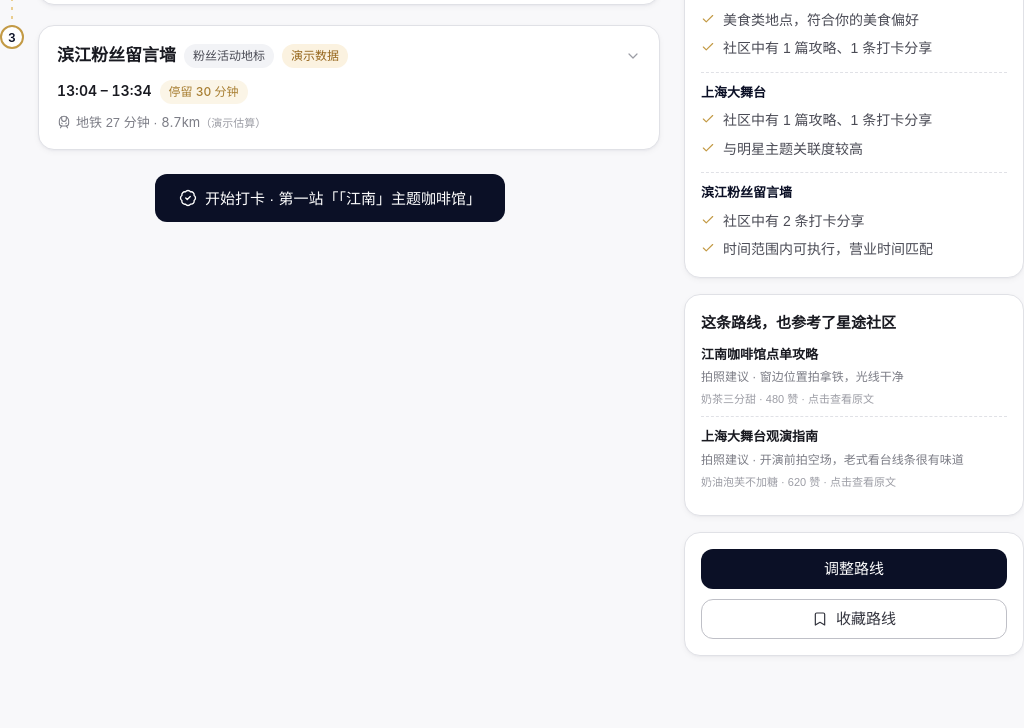
Test: AI 路线结果页 › Test 7：调整路线 → 回 /ai/planning 且条件保留
(page scrolled)
Click the button "调整路线".
click(854, 569)  # box [701,549,1007,589]
(page scrolled)
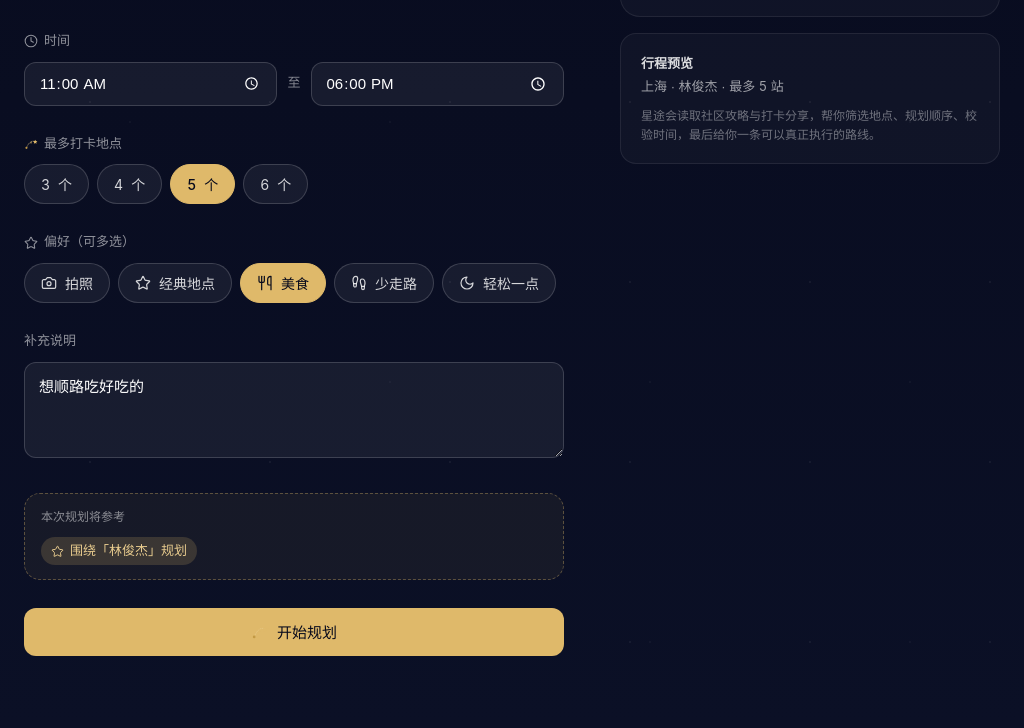
Expected: the time field named "开始时间" holds "11:00", [24,62,278,106]
Expected: the time field named "结束时间" holds "18:00", [310,62,564,106]
Expected: the text box labelled "补充说明" holds "想顺路吃好吃的", [24,362,564,458]
